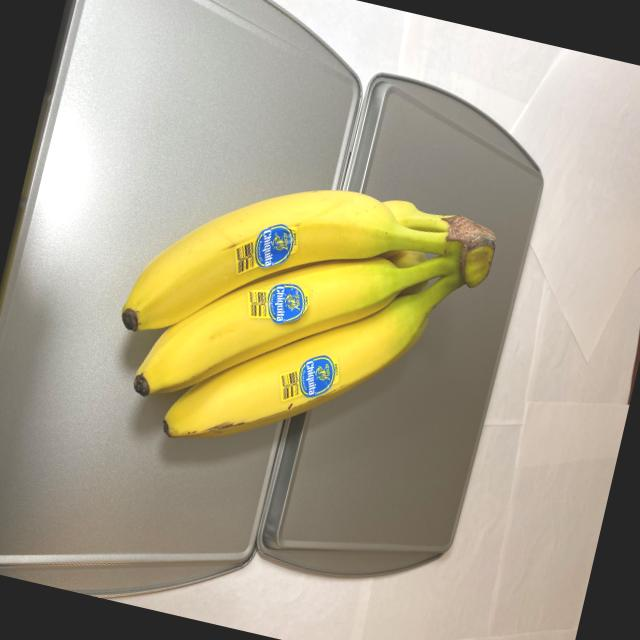banana: (88, 133, 506, 501)
